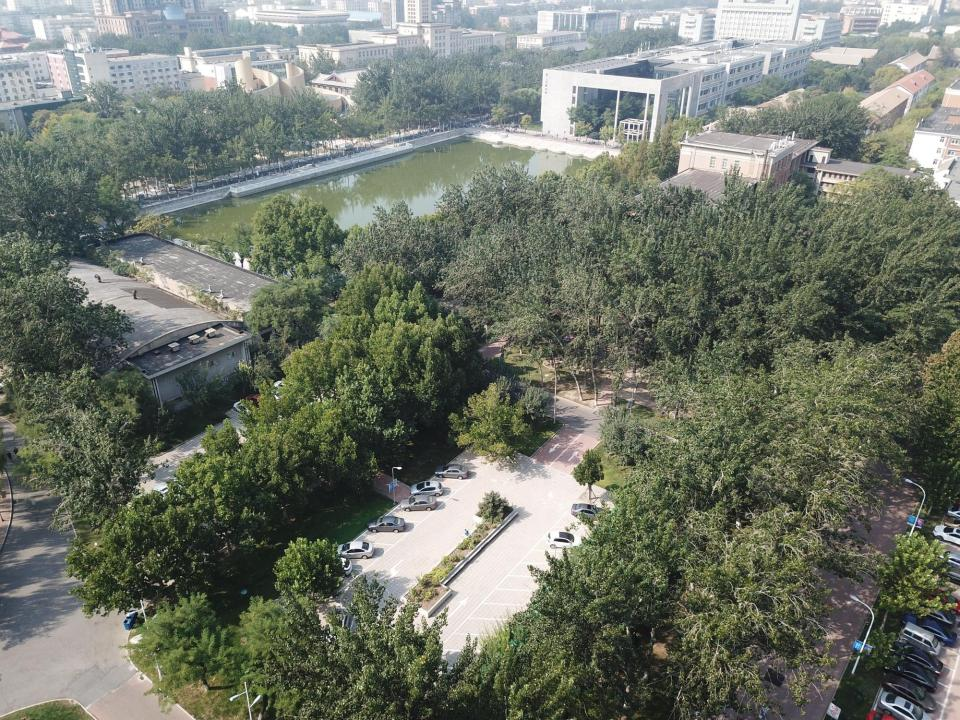car: (882, 672, 936, 714), (888, 640, 944, 679), (902, 611, 957, 648), (884, 656, 938, 693), (876, 690, 932, 720), (908, 598, 956, 629), (918, 586, 960, 617), (326, 608, 350, 644), (546, 530, 589, 550), (313, 558, 352, 578), (334, 541, 374, 559), (570, 504, 610, 522), (367, 516, 405, 534), (150, 483, 179, 506), (400, 495, 437, 512), (932, 524, 960, 546), (932, 563, 960, 585), (409, 480, 443, 497), (233, 398, 260, 418), (435, 464, 468, 480), (935, 550, 960, 570), (262, 386, 289, 404), (244, 394, 274, 410), (272, 380, 298, 395), (943, 516, 960, 530), (946, 506, 960, 520)
van: (898, 622, 941, 658)
